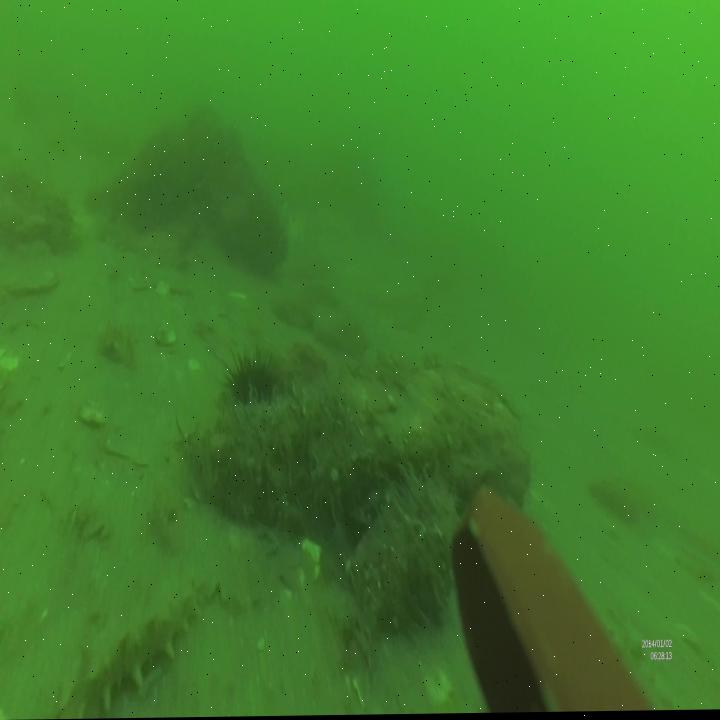echinus: (212, 345, 290, 438)
holothurian: (57, 566, 201, 719)
